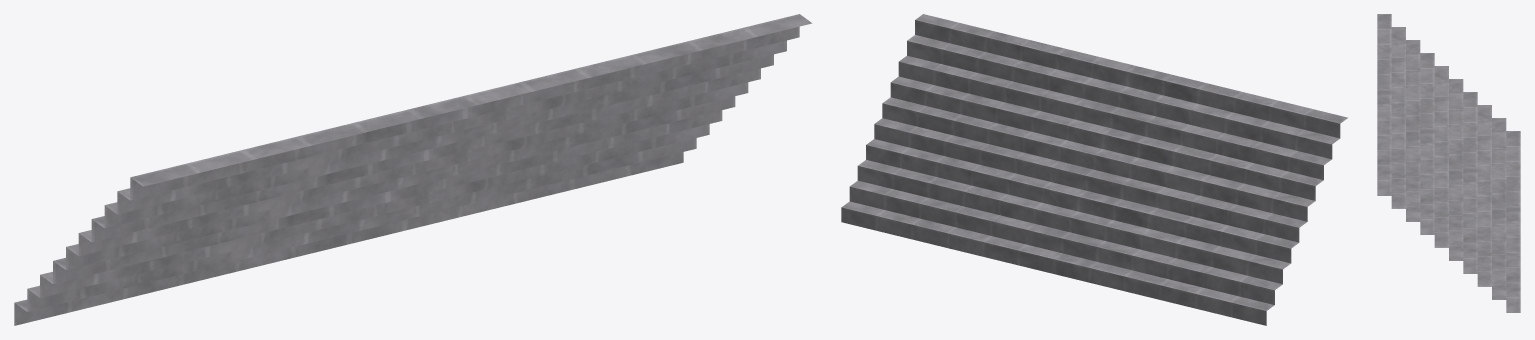
The model's file is Stair_2h_A.fbx.
3 views of the same model, side by side, from view 1: azimuth 30°, elevation 25°; view 2: azimuth 150°, elevation 25°; view 3: azimuth 270°, elevation 25° (orthographic). The views are drawn at different scales.
Visible parts, largest first — view 1: Stair_2h_A; view 2: Stair_2h_A; view 3: Stair_2h_A.
Boxes of the visible parts, x1=… form: Stair_2h_A: x1=14, y1=14, x2=812, y2=325; Stair_2h_A: x1=841, y1=14, x2=1347, y2=325; Stair_2h_A: x1=1377, y1=14, x2=1520, y2=312.
Bounding box in the file's own units: 6 × 2 × 2.
